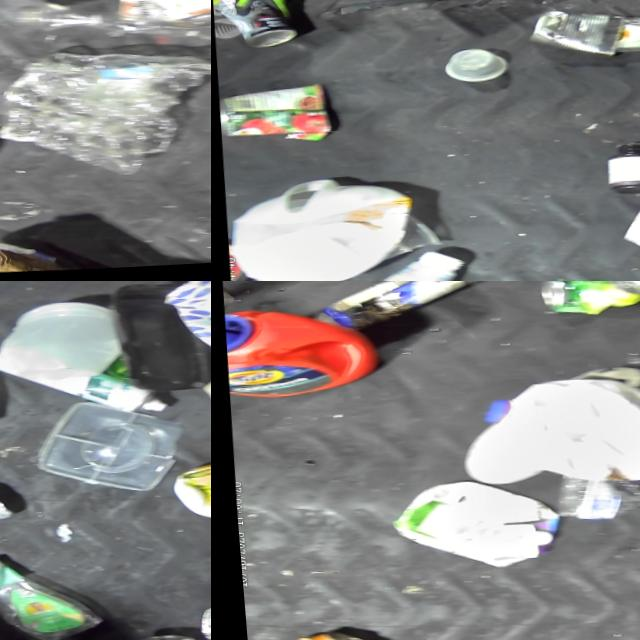can: (215, 84, 333, 140), (525, 281, 640, 321)
milk_jug: (221, 174, 414, 281), (461, 377, 640, 489), (0, 301, 113, 390), (526, 8, 622, 62)
non_white_jug: (221, 310, 366, 399)
plastic_bottle: (0, 55, 193, 178), (0, 0, 211, 49), (527, 472, 640, 522)
